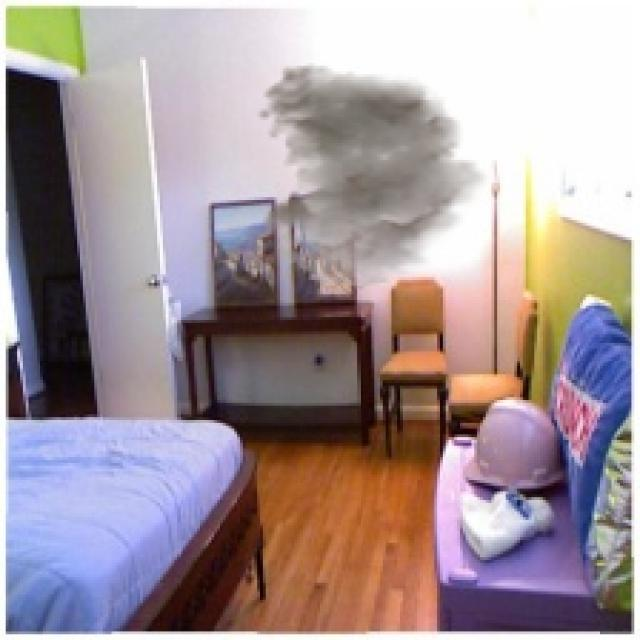smoke: (257, 63, 492, 288)
